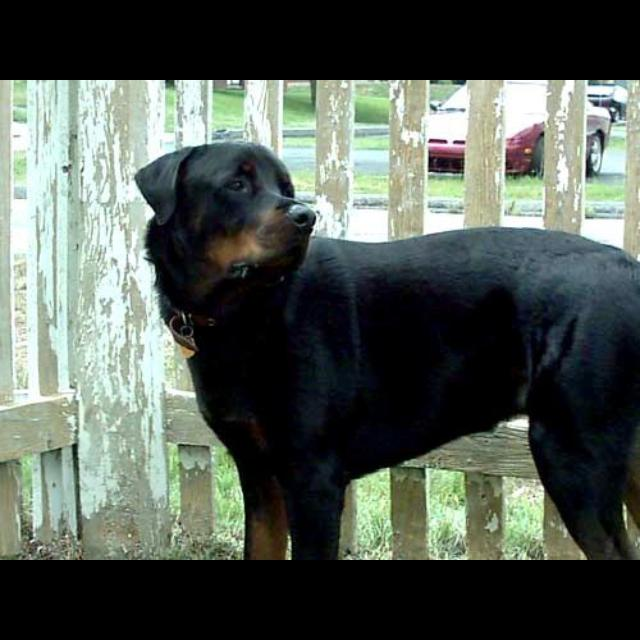rottweiler: (135, 141, 640, 560)
